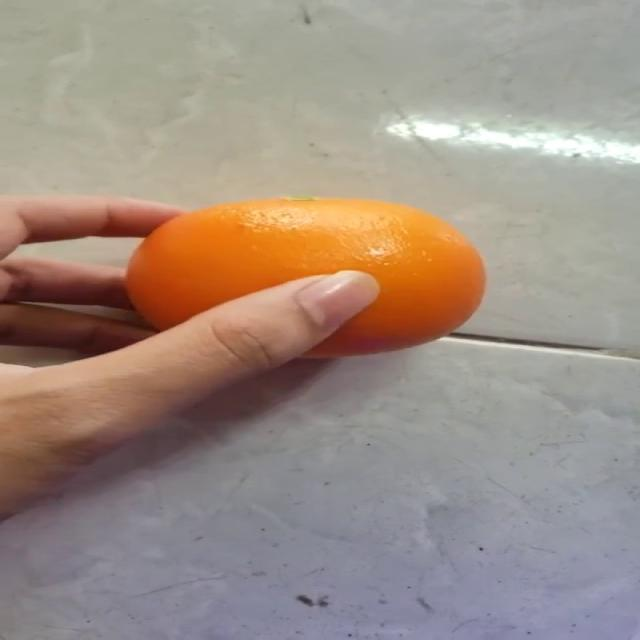Orange: (123, 194, 487, 359)
